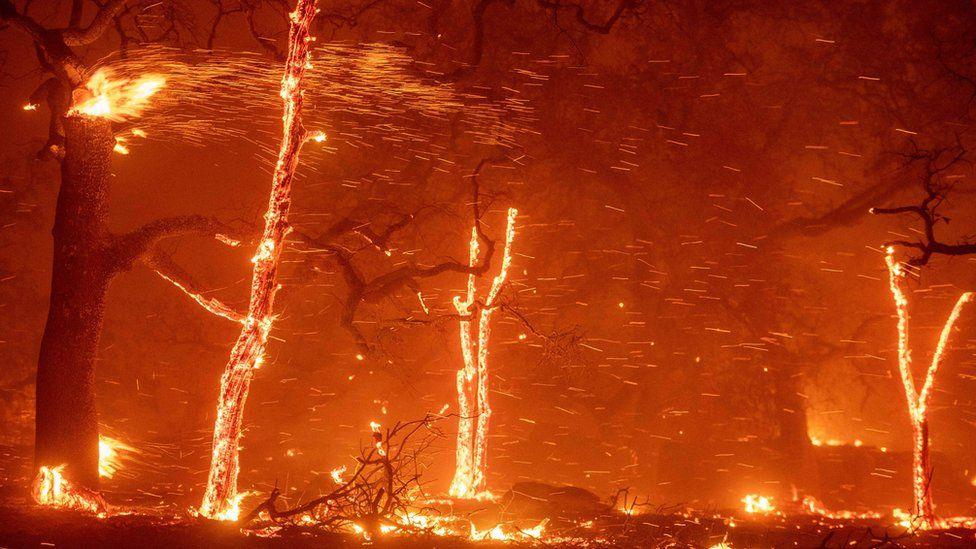Fire: (179, 4, 361, 517), (855, 229, 969, 545), (425, 192, 529, 513), (50, 40, 202, 149), (22, 431, 138, 518)
